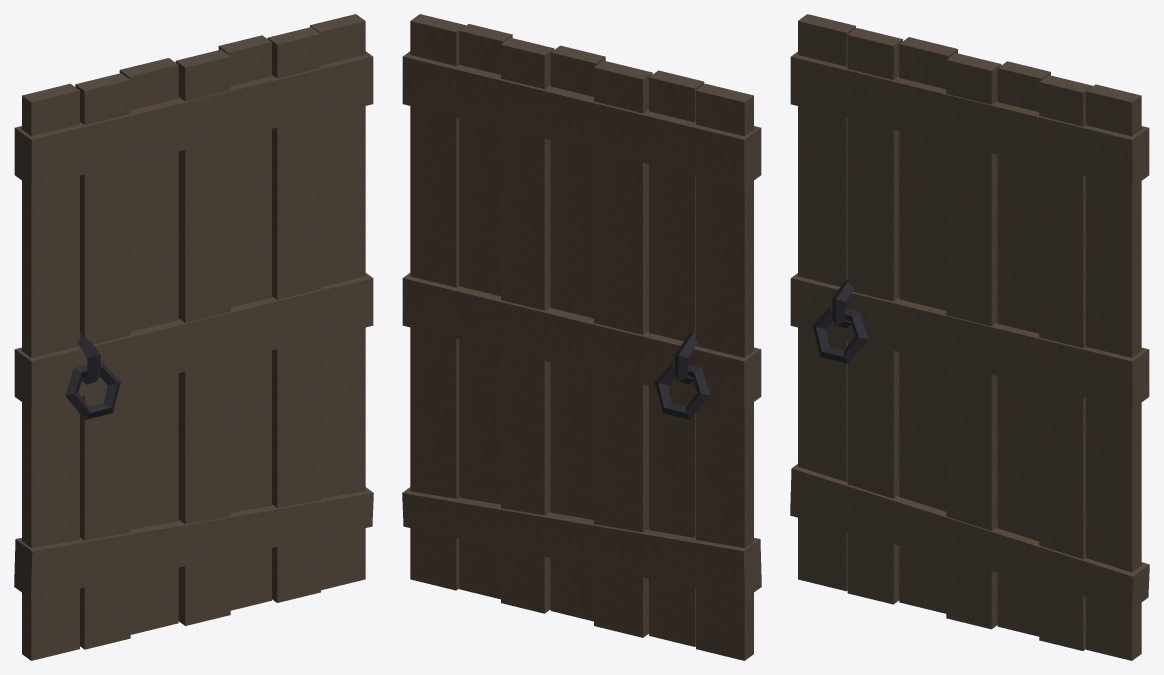
The model's file is Door.fbx.
3 views of the same model, side by side, from view 1: azimuth 30°, elevation 25°; view 2: azimuth 150°, elevation 25°; view 3: azimuth 330°, elevation 25° (orthographic).
Parts seen in each view (by area): view 1: pCube773; view 2: pCube773; view 3: pCube773.
Part boxes in pixels (x1,y1,x2,y2): pCube773: [14, 14, 373, 660]; pCube773: [402, 14, 761, 660]; pCube773: [790, 14, 1149, 660].
Size of the model in its own units: 162 by 252 by 36.08.
